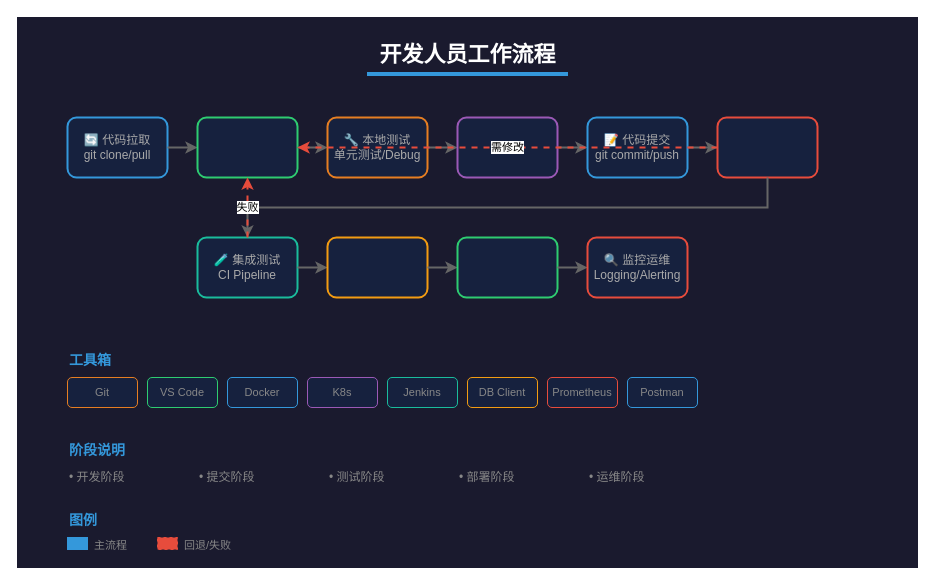
Image size: 935x585. Some labels were removed from this diagram. The shapes that lost their labels are listed below. From the top down, each one's box as (x1, y1, x2, y2) in pixels, then its label:
(196, 116, 298, 178): 💻 IDE开发 VS Code/IDEA
(456, 116, 558, 178): 🗄️ 数据库操作 Schema/Migrations
(716, 116, 818, 178): 👀 代码审查 Code Review
(326, 236, 428, 298): 📦 构建镜像 Docker Build
(456, 236, 558, 298): 🚀 部署环境 Staging/Prod
